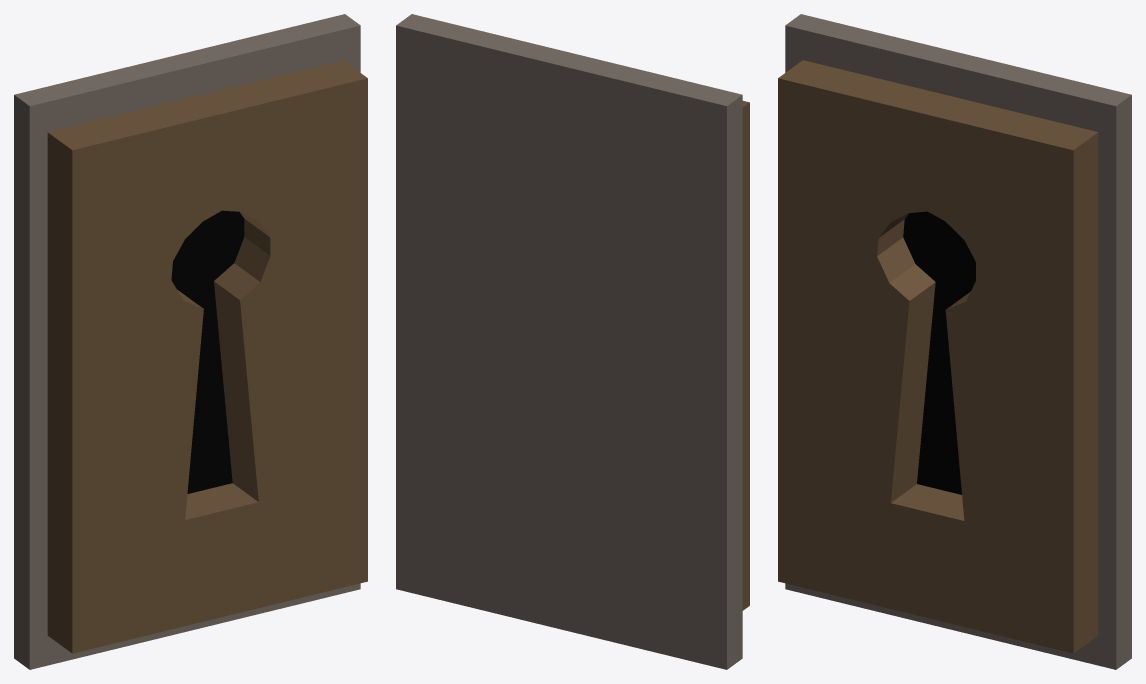
Rendered from keyhole.fbx.
The picture shows the model from 3 angles, left to right: view 1: azimuth 30°, elevation 25°; view 2: azimuth 150°, elevation 25°; view 3: azimuth 330°, elevation 25°; orthographic projection.
Parts seen in each view (by area): view 1: keyhole; view 2: keyhole; view 3: keyhole.
Part boxes in pixels (left/top/right/bottom): keyhole: left=14, top=14, right=367, bottom=669; keyhole: left=396, top=14, right=749, bottom=669; keyhole: left=778, top=14, right=1131, bottom=669.
Size of the model in its own units: 130 by 212 by 27.73.
